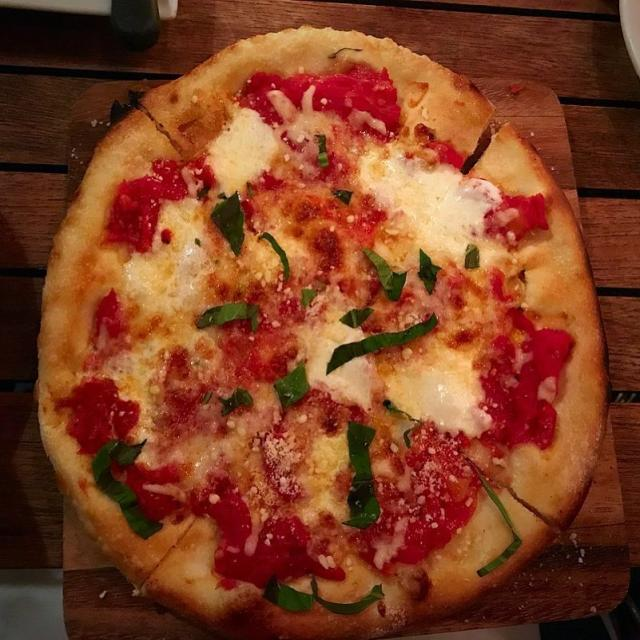basil: (324, 306, 442, 377), (89, 437, 167, 541), (466, 460, 525, 580), (262, 575, 388, 617), (192, 178, 255, 260), (340, 418, 383, 530), (360, 245, 410, 302), (382, 397, 428, 452), (195, 298, 260, 336), (254, 228, 294, 288), (270, 356, 310, 411), (196, 386, 253, 416), (414, 245, 442, 298), (335, 306, 375, 330), (313, 129, 332, 171), (461, 241, 481, 271), (327, 183, 354, 204), (300, 286, 315, 310)
pizza: (36, 29, 608, 636)
